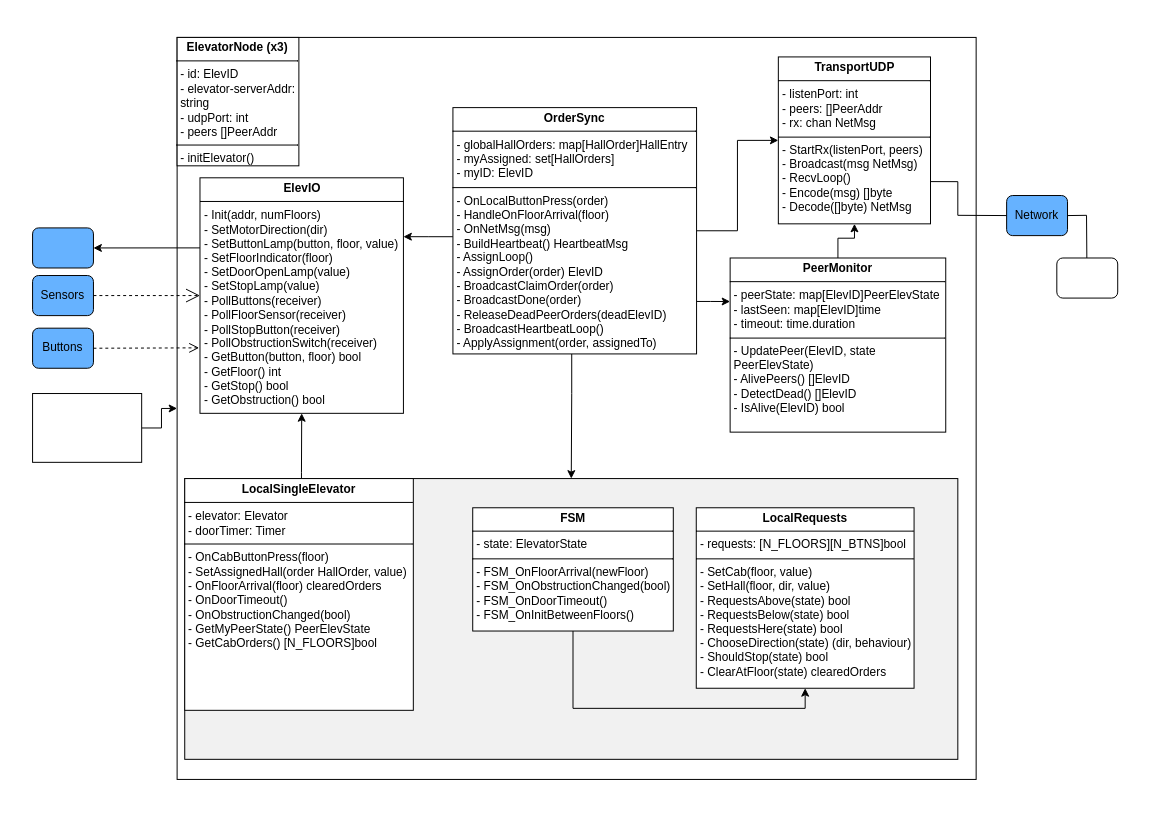
This 1152x816 diagram has some shape labels left out. The shapes that lost their labels are listed below. From the top down, each one's box as (x1, y1, x2, y2) in pixels, then its label:
(32, 227, 93, 268): Physical Elevator
(1056, 257, 1118, 298): Other elevators
(32, 393, 142, 462): Watchdog (x3) - WatchLoop() - TriggerRecovery()
